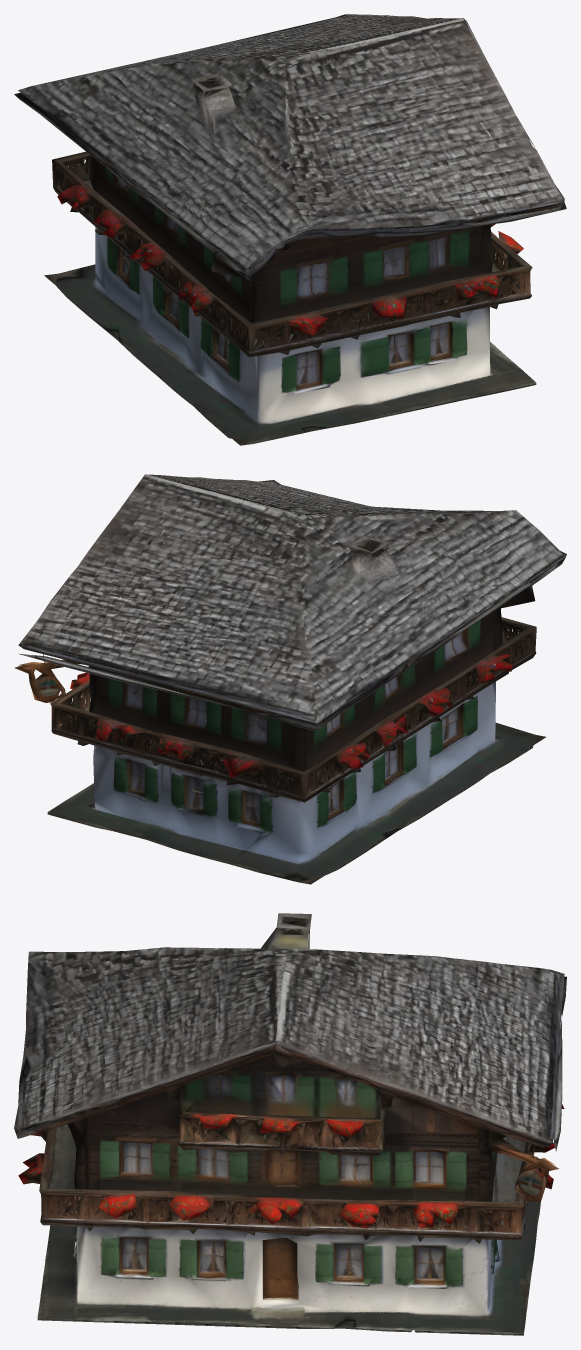
Rendered from inn_tripo.glb.
3 views of the same model, one above another, from view 1: azimuth 30°, elevation 25°; view 2: azimuth 150°, elevation 25°; view 3: azimuth 270°, elevation 25° (orthographic). The views are drawn at different scales.
Visible parts, largest first — view 1: tripo_node_c6de37e9-676c-4762-a1e9-f0a2620b2071; view 2: tripo_node_c6de37e9-676c-4762-a1e9-f0a2620b2071; view 3: tripo_node_c6de37e9-676c-4762-a1e9-f0a2620b2071.
Boxes of the visible parts, bbox=[...] form: tripo_node_c6de37e9-676c-4762-a1e9-f0a2620b2071: bbox=[14, 14, 566, 445]; tripo_node_c6de37e9-676c-4762-a1e9-f0a2620b2071: bbox=[14, 474, 566, 884]; tripo_node_c6de37e9-676c-4762-a1e9-f0a2620b2071: bbox=[14, 913, 566, 1335].
Bounding box in the file's own units: 0.7584 × 0.5832 × 0.9738.
1 material, 1 textured.
